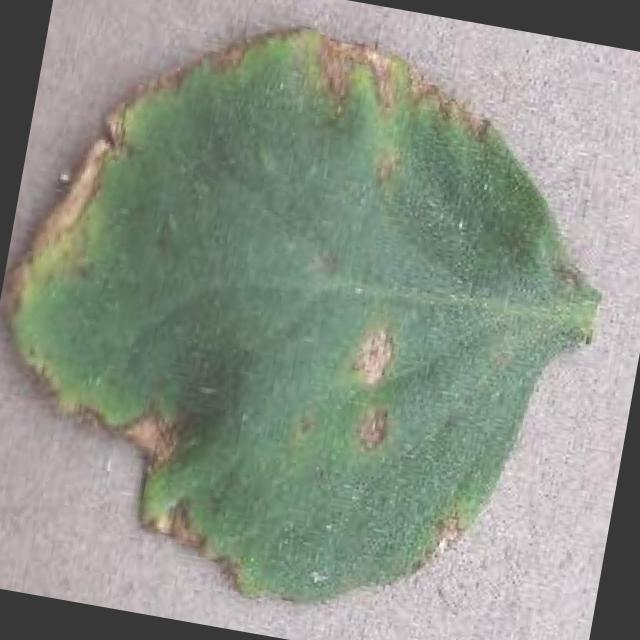bacterial spot: (0, 24, 585, 605)
